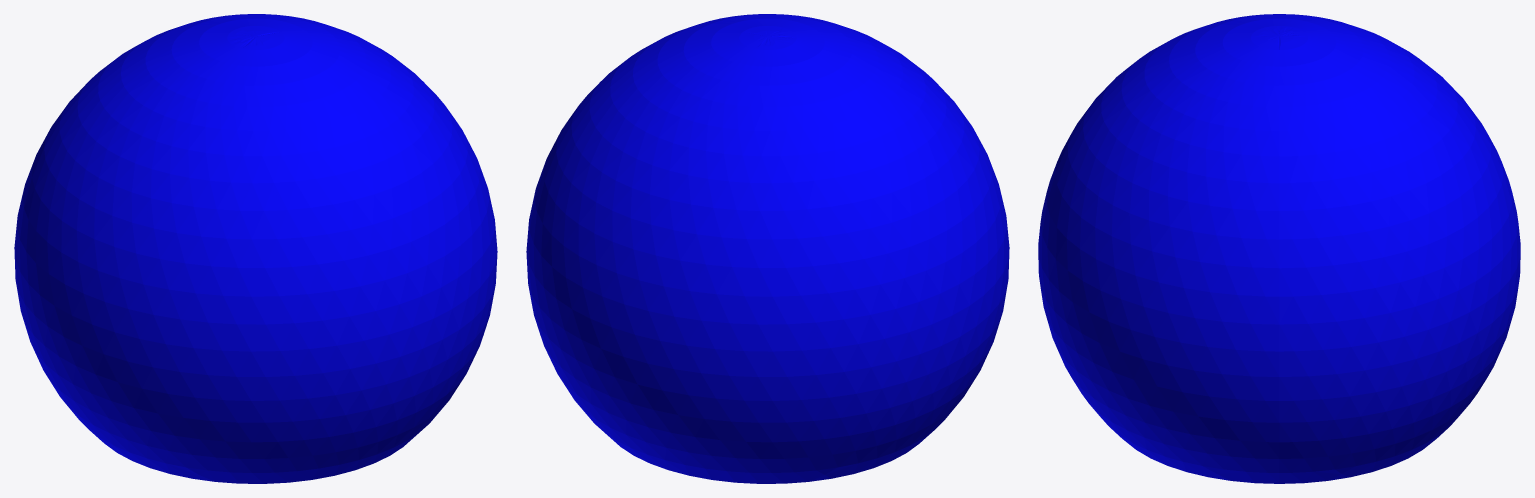
3 renders of one model, left to right at view 1: azimuth 30°, elevation 25°; view 2: azimuth 150°, elevation 25°; view 3: azimuth 270°, elevation 25°, orthographic.
Parts seen in each view (by area): view 1: node0; view 2: node0; view 3: node0.
Part boxes in pixels (box(x1,y1,x2,y2)): node0: box(14, 14, 497, 483); node0: box(526, 14, 1009, 483); node0: box(1038, 14, 1520, 483).
Bounding box in the file's own units: 0.0499 × 0.0499 × 0.043.
